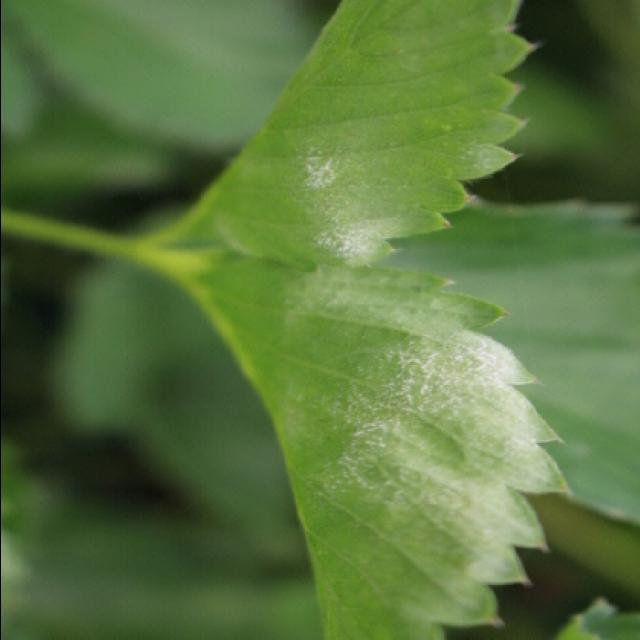Powdery Mildew Leaf: (169, 250, 573, 640), (163, 2, 543, 273)
